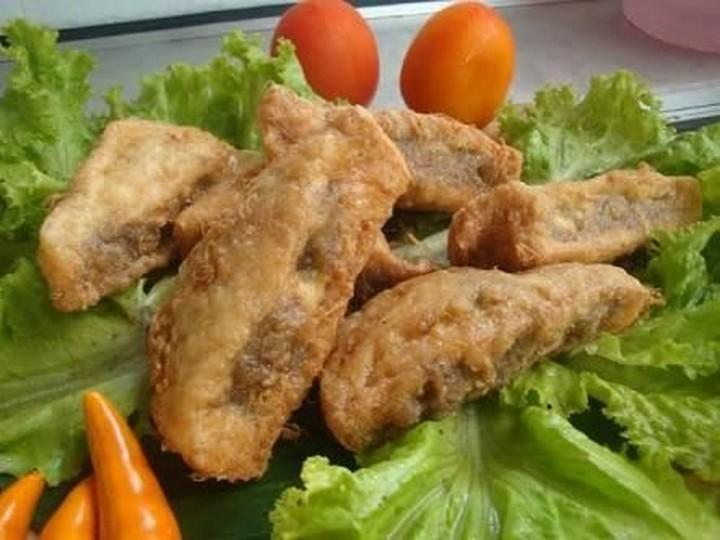buah_sayur_lainnya: (414, 427, 669, 530), (18, 339, 122, 394)
buah_sayur_vitA: (436, 23, 493, 112), (298, 7, 357, 84)
kacang_legume: (206, 200, 324, 373), (361, 288, 543, 359), (108, 134, 182, 243), (486, 203, 637, 247), (412, 129, 479, 207)
